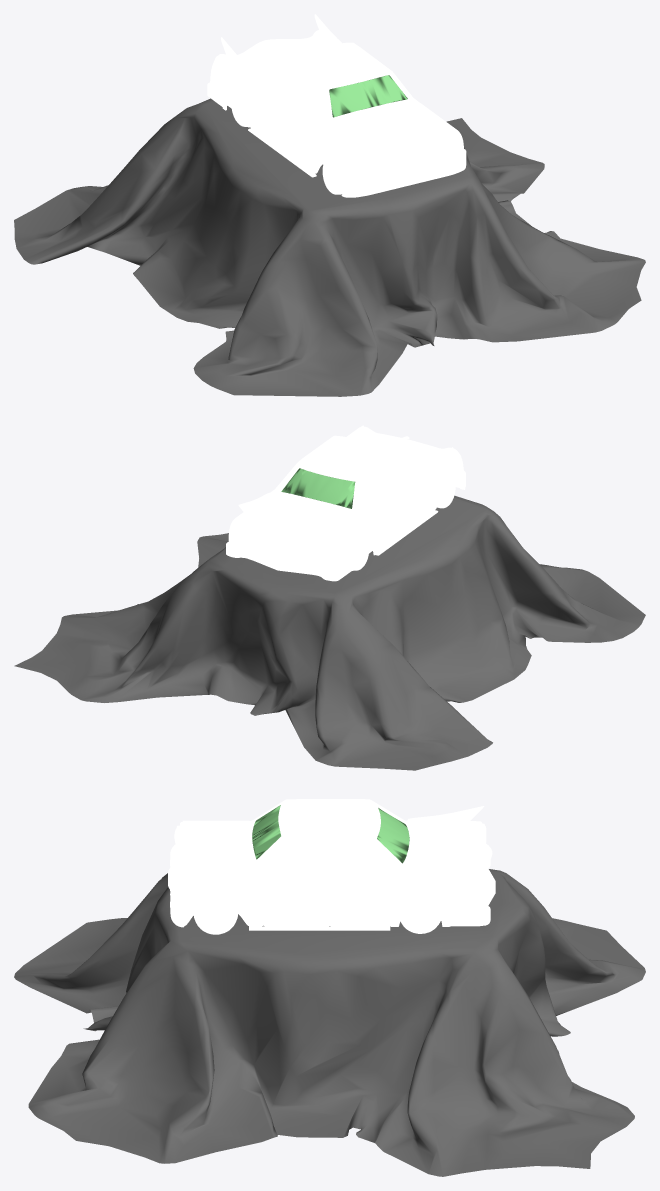
The model's file is toycar.glb.
3 renders of one model, top to bottom at view 1: azimuth 30°, elevation 25°; view 2: azimuth 150°, elevation 25°; view 3: azimuth 270°, elevation 25°, orthographic. The views are drawn at different scales.
Parts seen in each view (by area): view 1: Fabric, ToyCar, Glass; view 2: Fabric, ToyCar, Glass; view 3: Fabric, ToyCar, Glass.
Boxes of the visible parts, left/top/right/bottom form: Fabric: left=14, top=98, right=645, bottom=396; ToyCar: left=207, top=14, right=466, bottom=197; Glass: left=329, top=75, right=407, bottom=117; Fabric: left=14, top=495, right=645, bottom=770; ToyCar: left=226, top=425, right=465, bottom=581; Glass: left=281, top=468, right=355, bottom=508; Fabric: left=14, top=869, right=645, bottom=1176; ToyCar: left=168, top=799, right=495, bottom=934; Glass: left=252, top=805, right=409, bottom=863.
Size of the model in its own units: 0.0734 by 0.0288 by 0.074.
